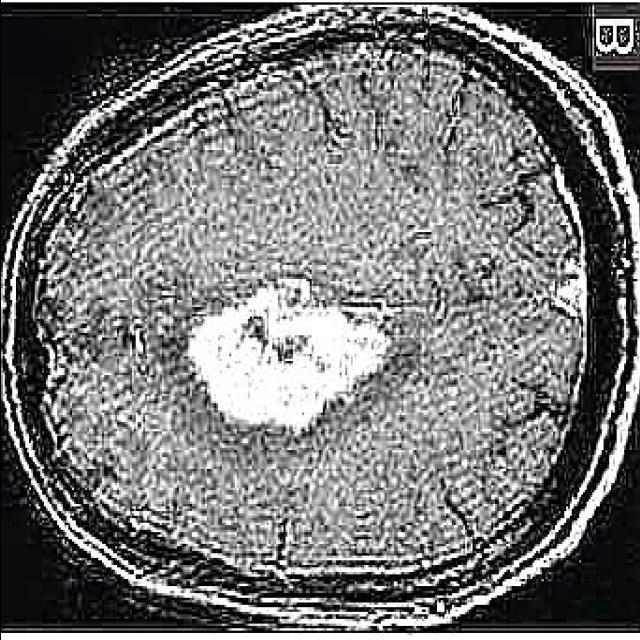tumor: (183, 274, 391, 429)
